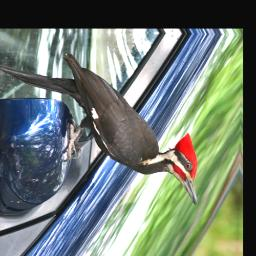Woodpecker: (0, 48, 202, 207)
